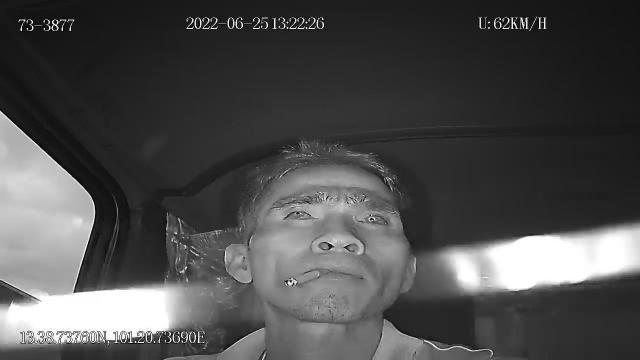SafeDriving: (278, 201, 322, 226), (354, 206, 396, 230)
Smoking: (284, 268, 332, 288)
